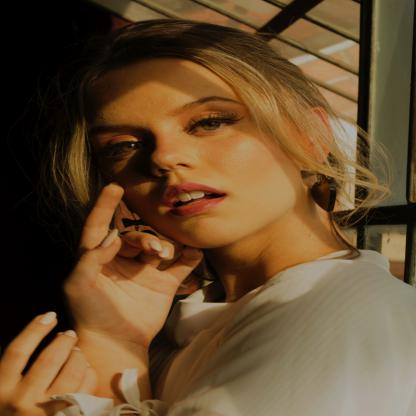Eye: (186, 111, 243, 136), (101, 135, 147, 160)
Mouth: (162, 180, 230, 216)
Nose: (150, 136, 199, 178)
